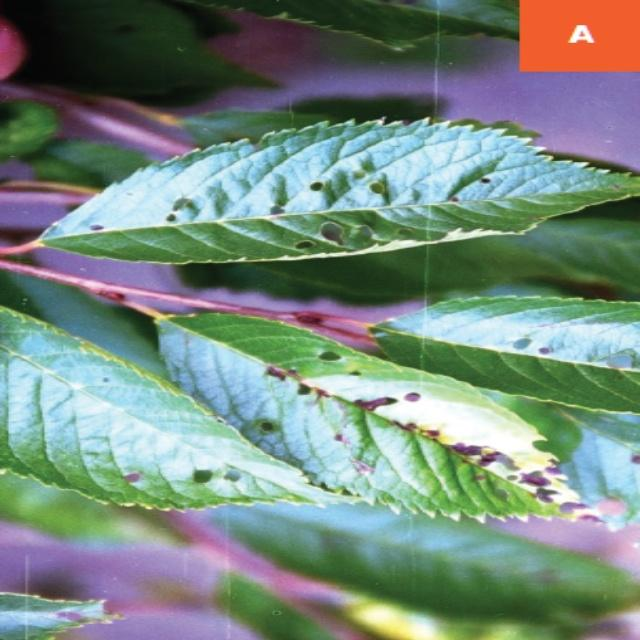shot_hole: (114, 65, 574, 314), (0, 296, 321, 522)
